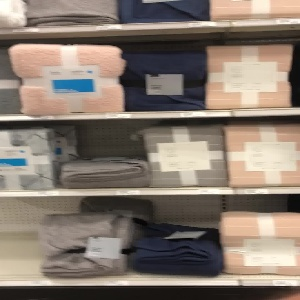void: (1, 202, 42, 275)
